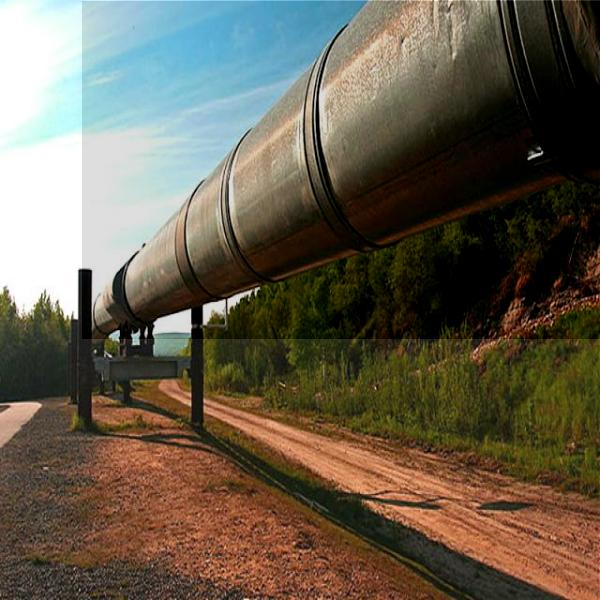no leak: (82, 1, 600, 339)
